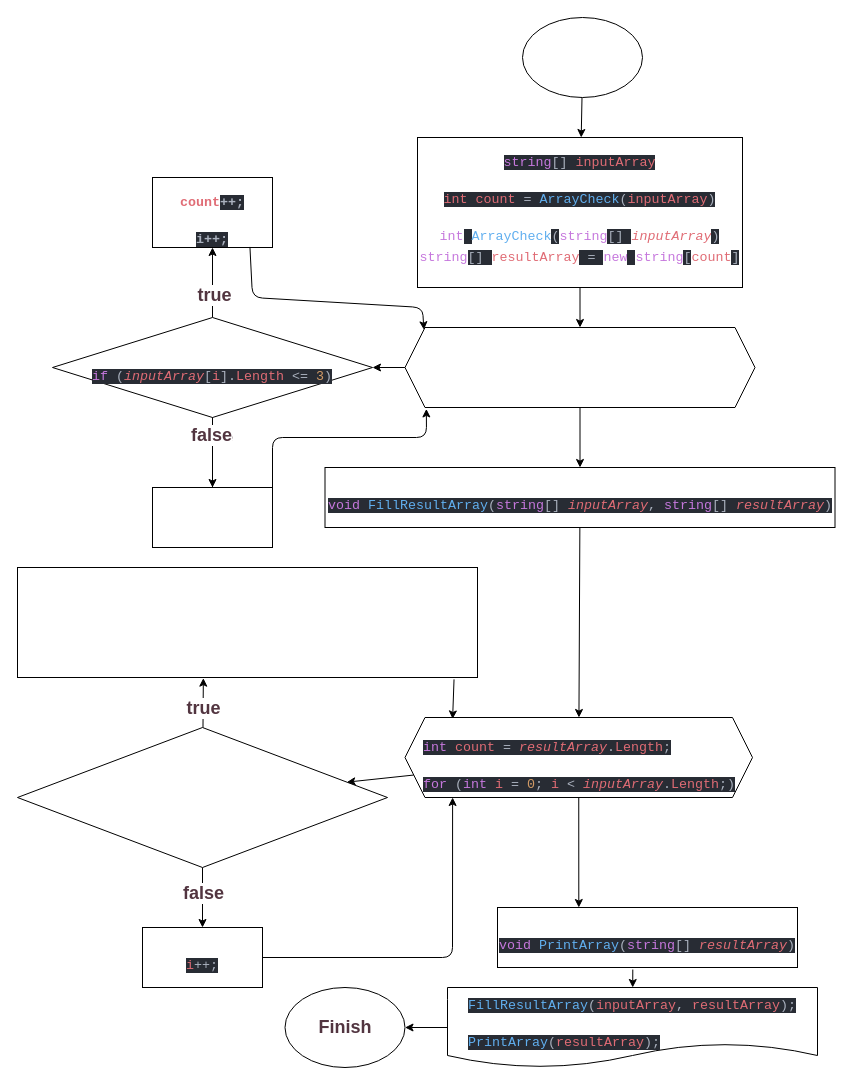
Image size: 853x1085. Some labels were removed from this diagram. The shapes that lost their labels are listed below. From the top down, each one's centre as x and y in pixels, then its label:
(582,57): Start
(579,367): int count = 0 ; for int i = 0 ; i < inputArray . Length ; retutn count;
(212,517): i++;
(247,622): resultArray [ resultArray . Length - count ] = inputArray [ i ]; count --; i ++;
(202,797): if ( inputArray [ i ]. Length <= 3 && count > 0 )
